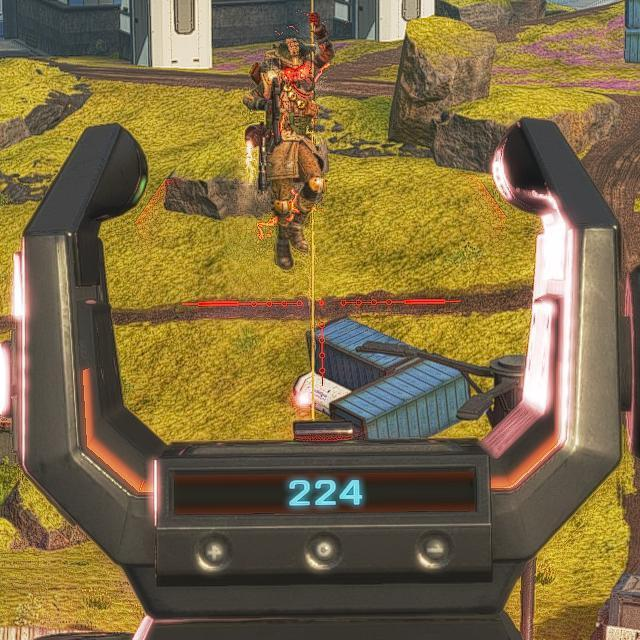avatar: (243, 12, 337, 269)
